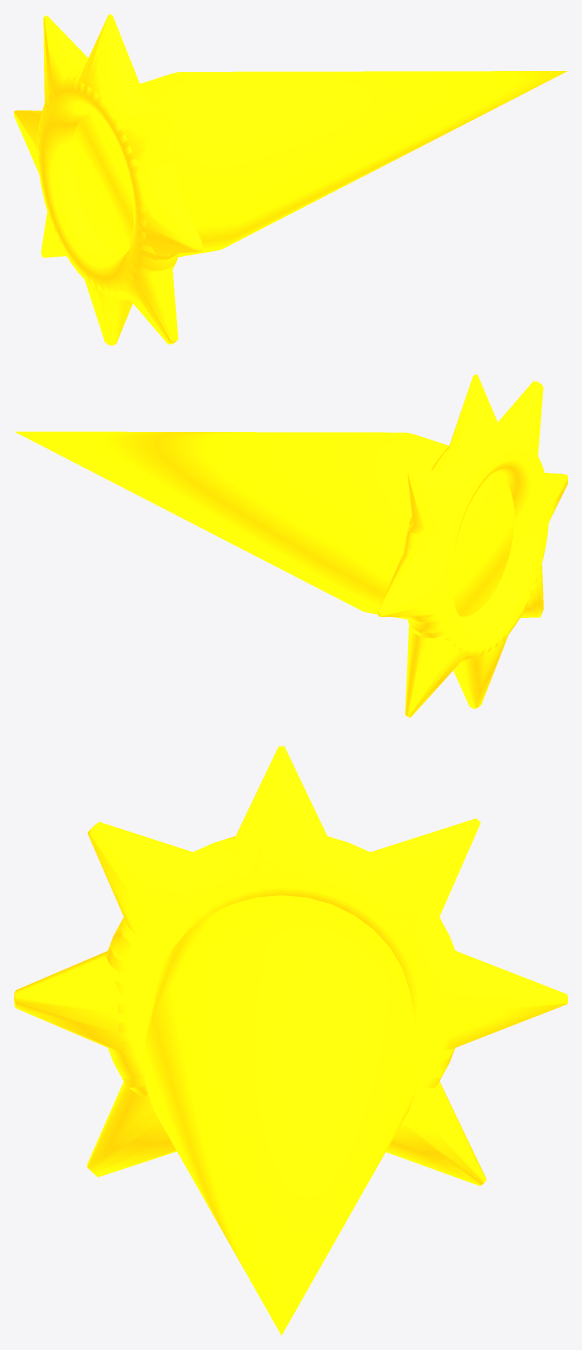
The model's file is SM_MuzzleFlash.glb.
The picture shows the model from 3 angles, top to bottom: view 1: azimuth 30°, elevation 25°; view 2: azimuth 150°, elevation 25°; view 3: azimuth 270°, elevation 25°; orthographic projection. The views are drawn at different scales.
Parts seen in each view (by area): view 1: Torus; view 2: Torus; view 3: Torus.
Boxes of the visible parts, x1,y1,x2,y2 form: Torus: (14,14,567,345); Torus: (15,374,567,717); Torus: (14,746,567,1335).
Bounding box in the file's own units: 0.1414 × 0.0928 × 0.0939.
